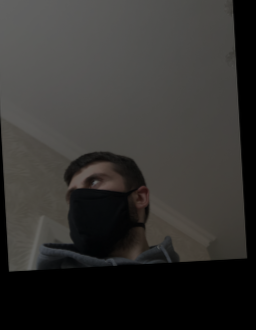with_mask: (66, 170, 132, 256)
